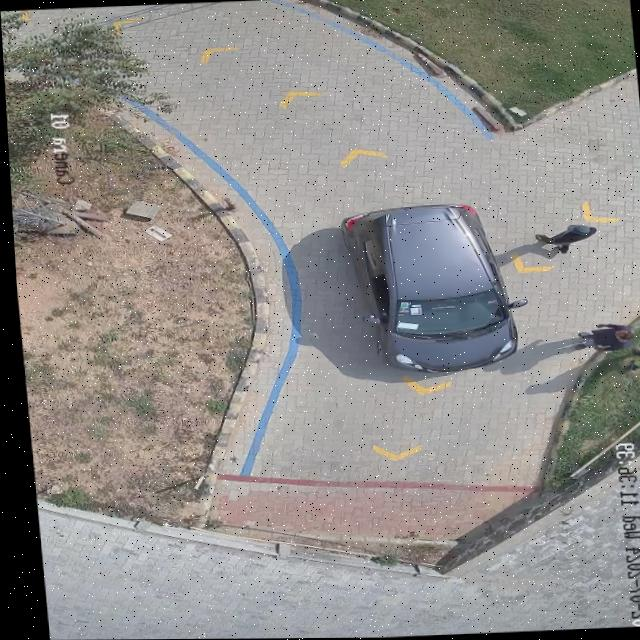car: (337, 204, 520, 374)
